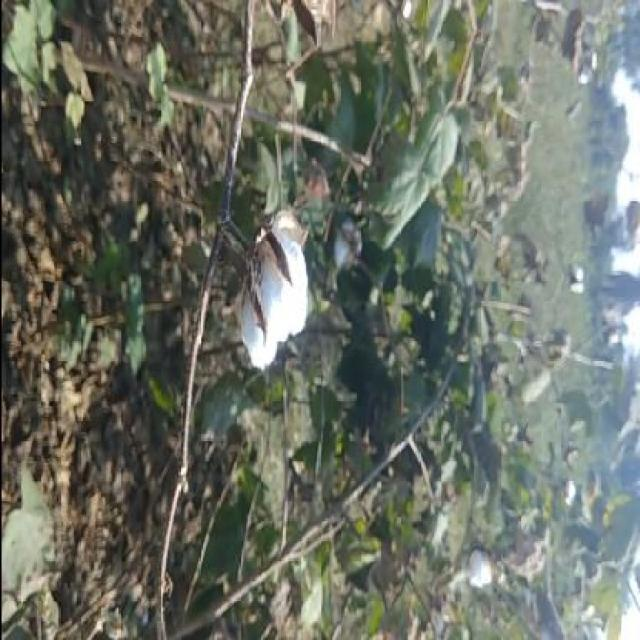cotton_ready: (209, 190, 316, 392)
